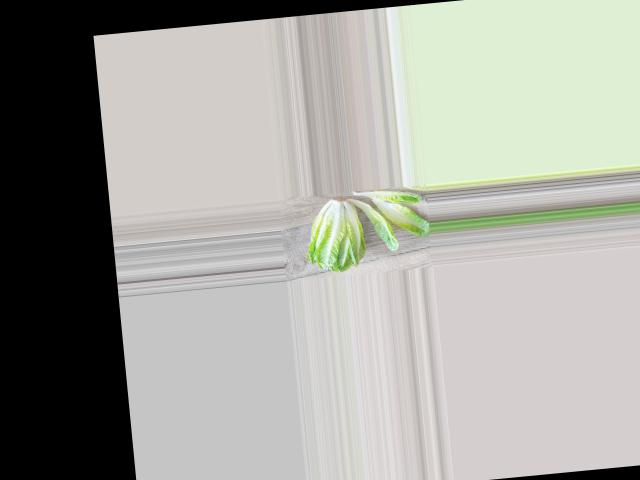lettuce: (300, 198, 370, 274)
